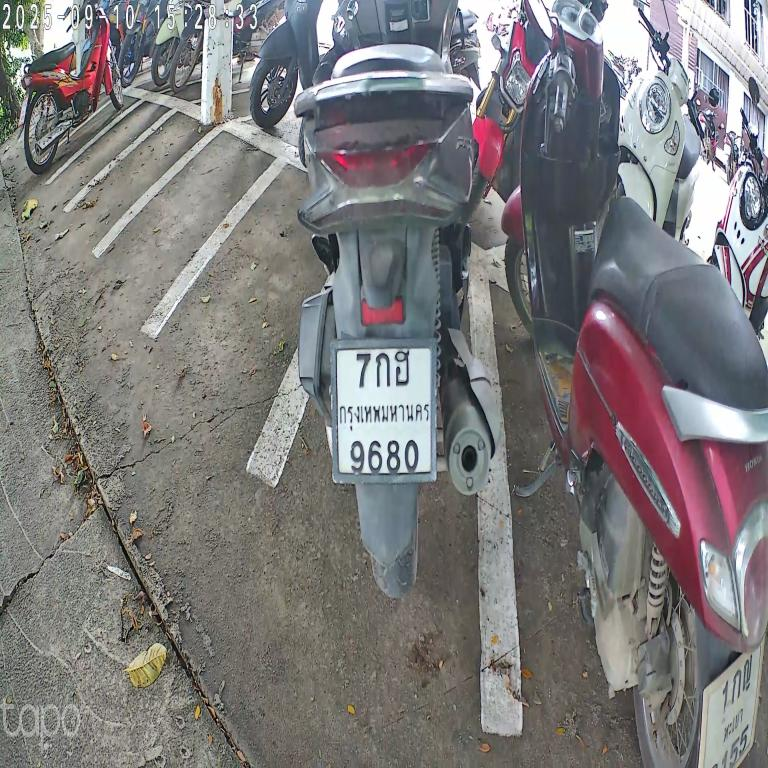license plate: (329, 327, 442, 495), (687, 635, 768, 767)
